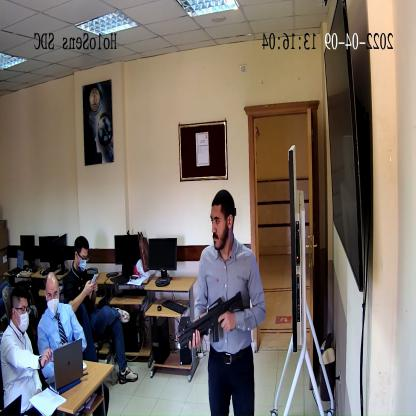handgun: (180, 288, 246, 354)
